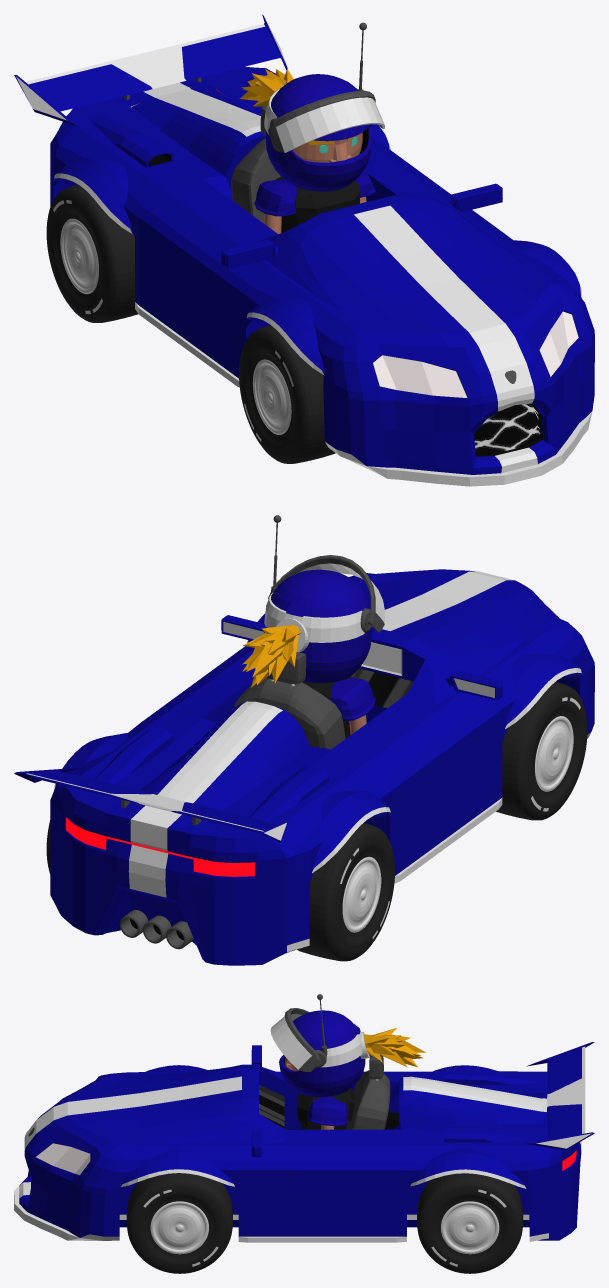
The model's file is carlita coche final 2.fbx.
3 views of the same model, one above another, from view 1: azimuth 30°, elevation 25°; view 2: azimuth 150°, elevation 25°; view 3: azimuth 270°, elevation 25° (orthographic). The views are drawn at different scales.
Parts seen in each view (by area): view 1: Coche.001, WRR.001, WFR.001, Casco, Visor.001, Cuerpo Carlita, Cabeza Carlita; view 2: Coche.001, Casco, WFR.001, WRR.001, Cuerpo Carlita, Visor.001; view 3: Coche.001, WFL.001, WRL.001, Casco, Cuerpo Carlita, Visor.001.
Boxes of the visible parts, box(x1,y1,x2,y2) form: Coche.001: box(14, 14, 594, 486); WRR.001: box(46, 184, 138, 322); WFR.001: box(239, 325, 335, 463); Casco: box(239, 22, 372, 191); Visor.001: box(268, 90, 384, 152); Cuerpo Carlita: box(254, 169, 375, 234); Cabeza Carlita: box(292, 132, 362, 162); Coche.001: box(14, 569, 594, 965); Casco: box(242, 515, 372, 687); WFR.001: box(496, 682, 587, 820); WRR.001: box(297, 823, 394, 961); Cuerpo Carlita: box(302, 676, 375, 738); Visor.001: box(268, 555, 385, 632); Coche.001: box(14, 1042, 594, 1242); WFL.001: box(126, 1173, 232, 1273); WRL.001: box(417, 1173, 523, 1273); Casco: box(279, 994, 425, 1096); Cuerpo Carlita: box(297, 1088, 354, 1129); Visor.001: box(270, 1008, 320, 1071).
Bounding box in the file's own units: 111 × 120 × 258.
19 materials, 3 textured.
